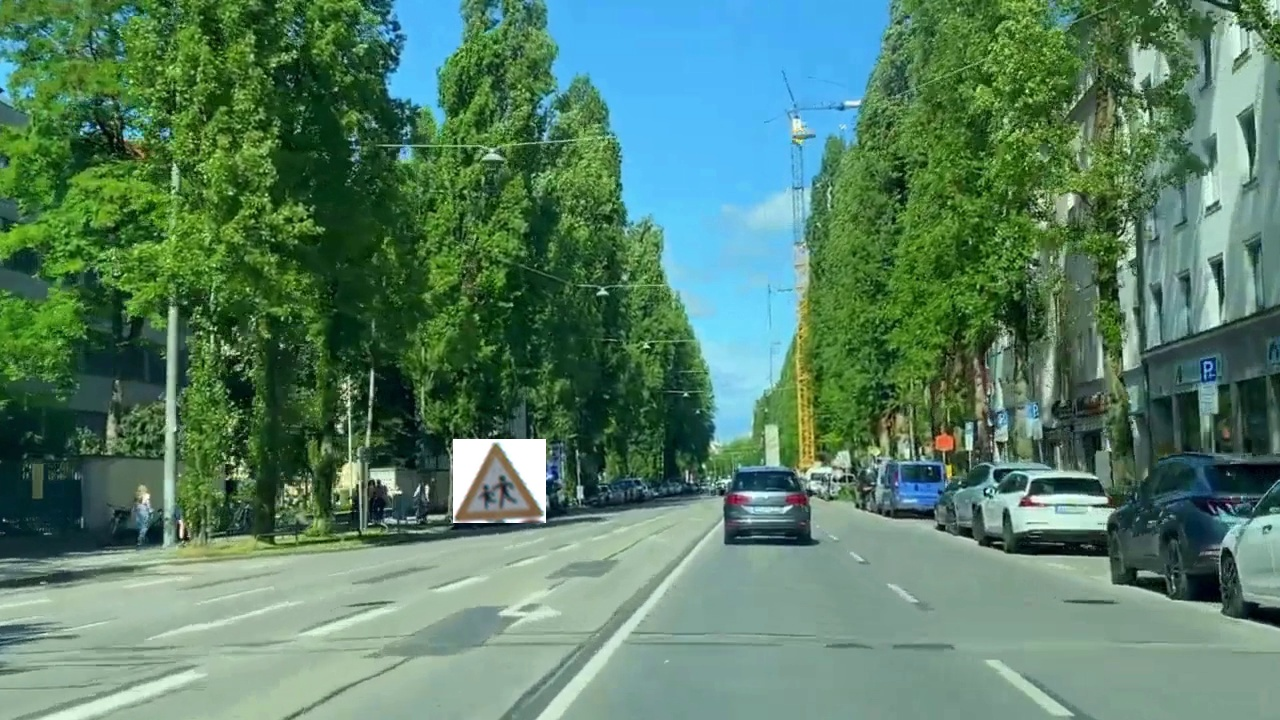Children: (453, 439, 546, 523)
